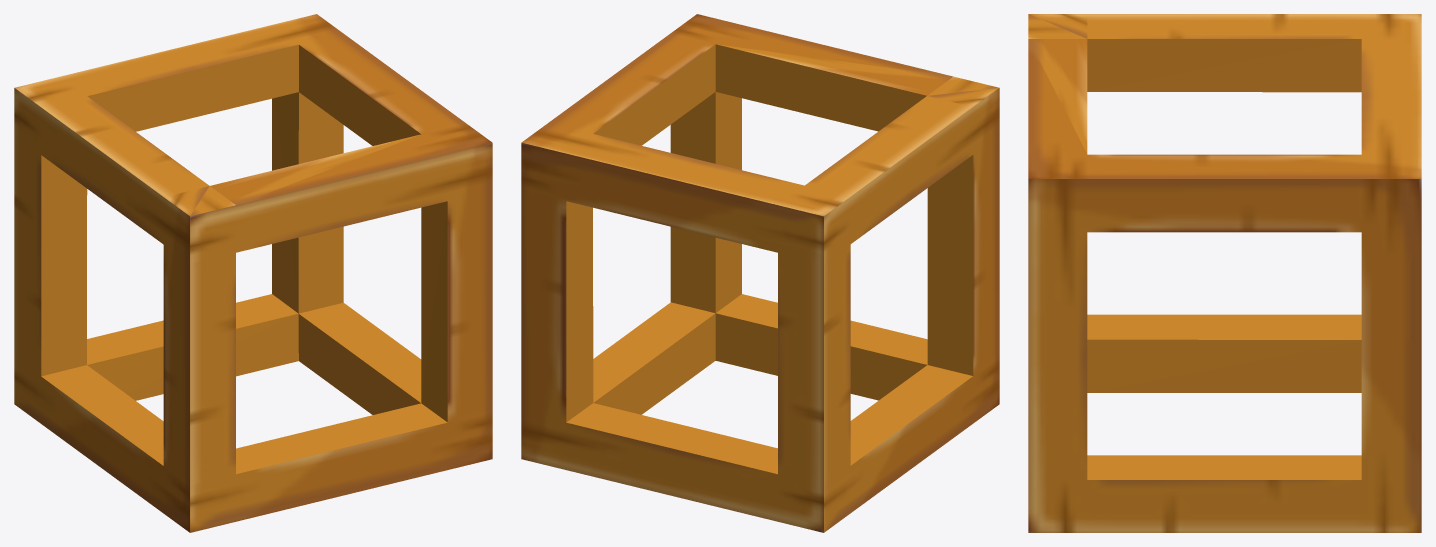
Rendered from woodBox.obj.
3 views of the same model, side by side, from view 1: azimuth 30°, elevation 25°; view 2: azimuth 150°, elevation 25°; view 3: azimuth 270°, elevation 25° (orthographic). The views are drawn at different scales.
Visible parts, largest first — view 1: Cube; view 2: Cube; view 3: Cube.
Part boxes in pixels (x1,y1,x2,y2): Cube: [14, 14, 492, 532]; Cube: [521, 14, 999, 532]; Cube: [1028, 14, 1421, 532].
Size of the model in its own units: 2 by 2 by 2.01.
